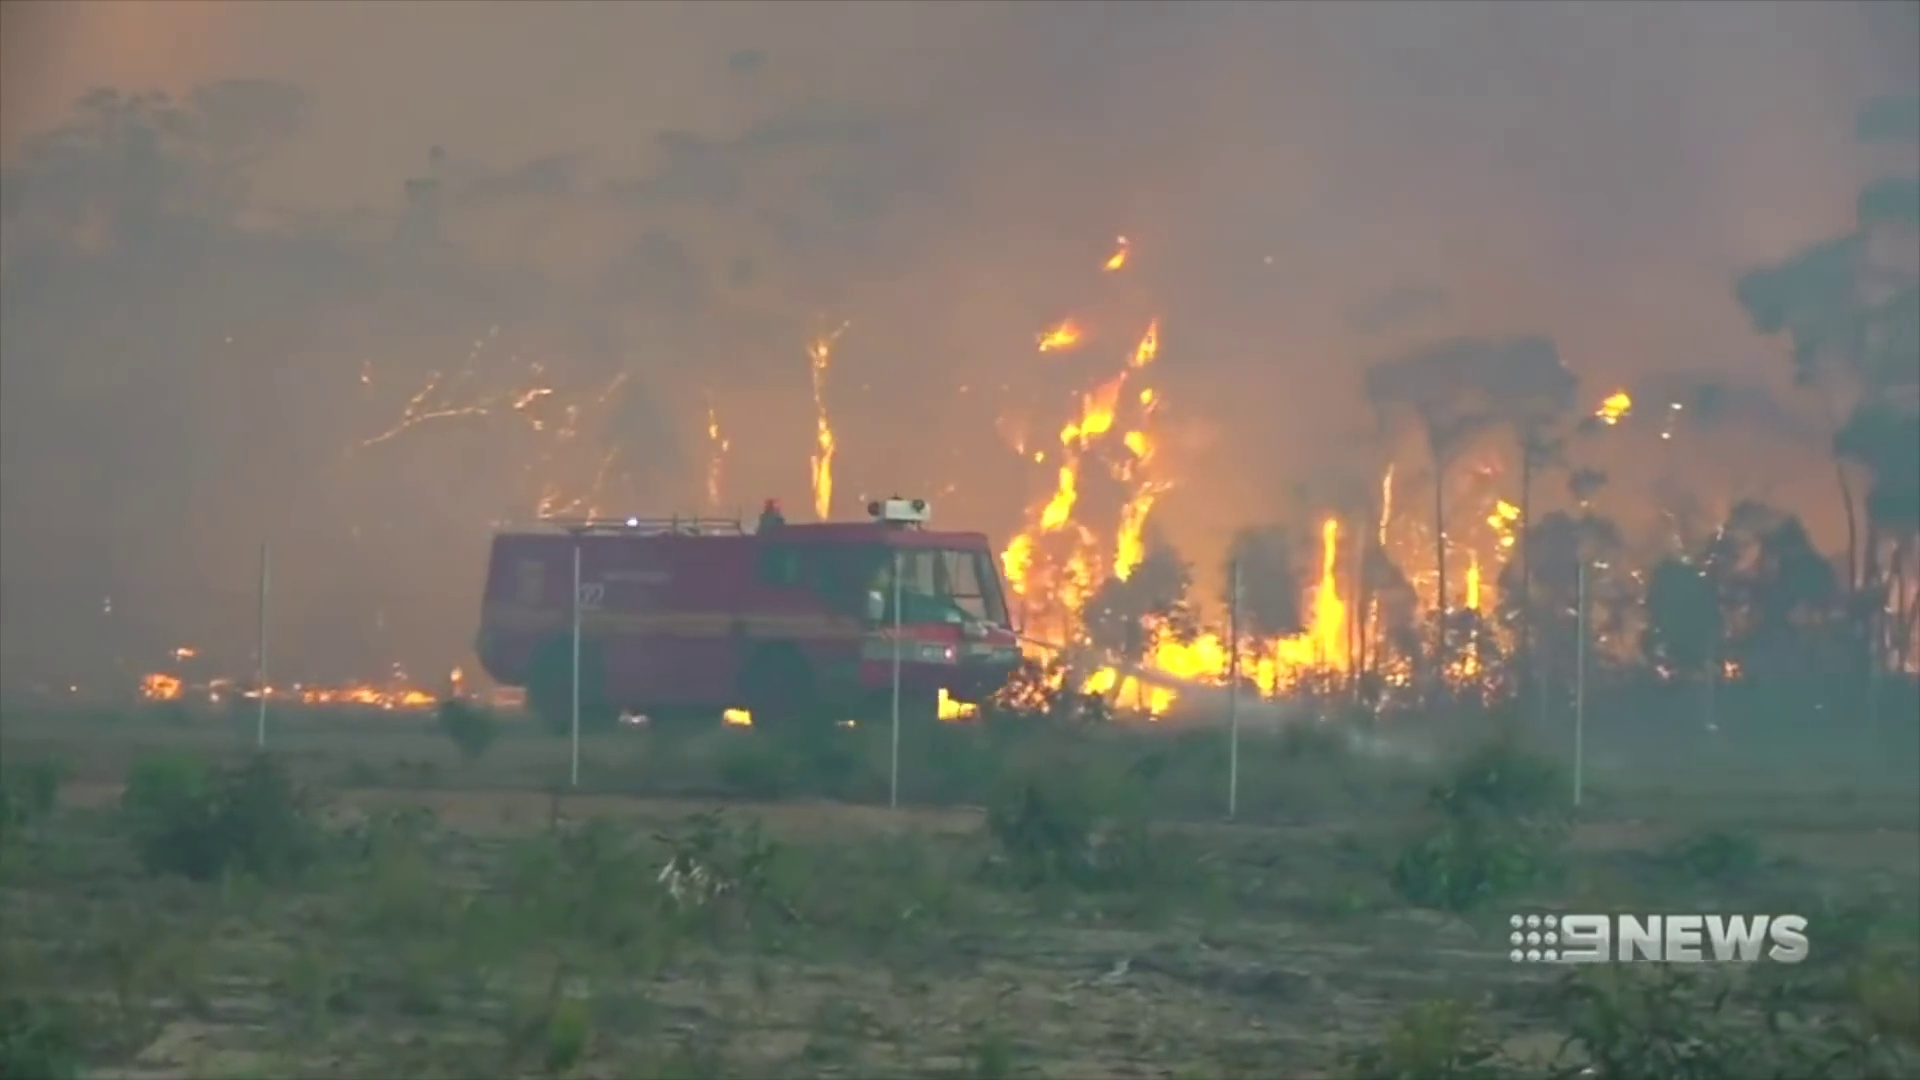fire: (1028, 401, 1154, 572), (1160, 628, 1310, 693), (1313, 519, 1340, 664), (810, 414, 833, 515), (348, 687, 425, 707), (1596, 389, 1632, 420), (146, 674, 180, 702), (1136, 328, 1158, 365), (1489, 499, 1518, 526), (1048, 325, 1077, 343)
